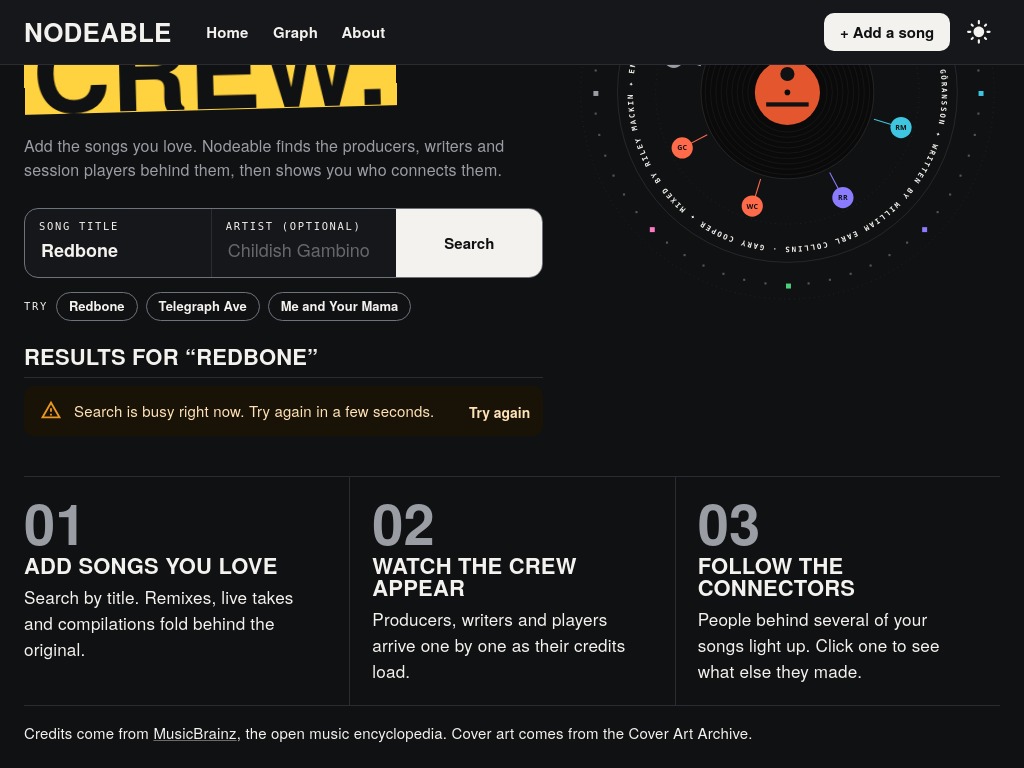
Test: search › NFR_RATE_01 explains a busy search and lets the person try again
The width and height of the screenshot is (1024, 768).
(page scrolled)
Check: the message shows "Search is busy right now. Try again in a few seconds.", box [74,400,434,421]
Click the button "Try again".
click(500, 412)  # box [464,396,535,428]
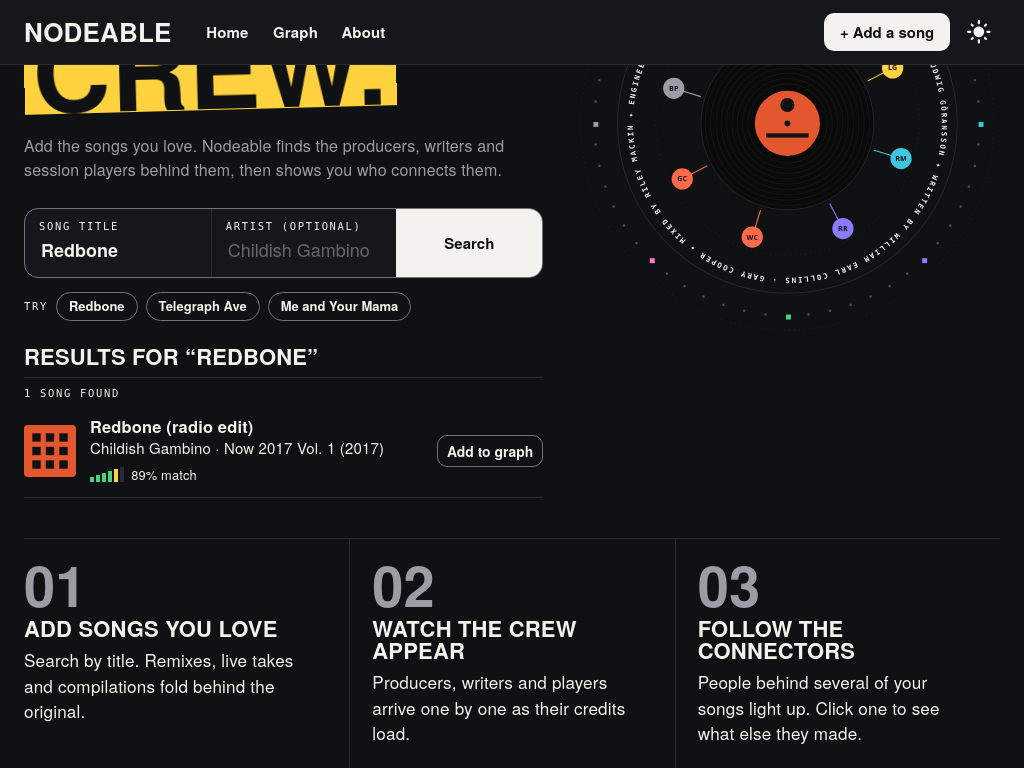
Check: the text "Redbone (radio edit)" is shown, box [90,417,253,437]
